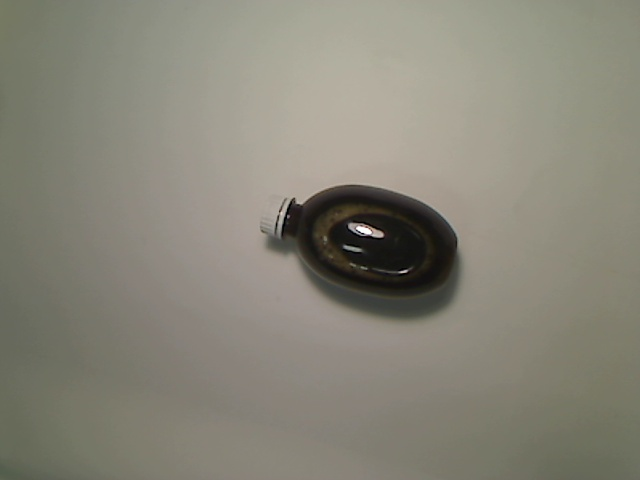plast_bottle: (258, 182, 460, 302)
